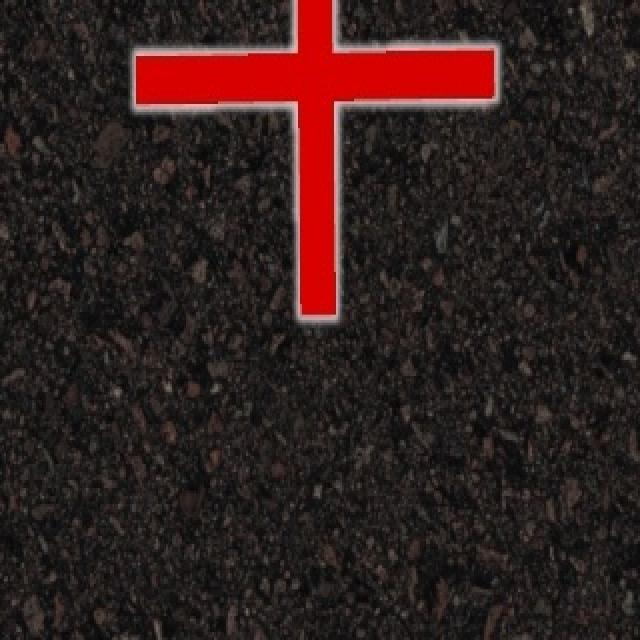x_marker: (135, 0, 495, 315)
